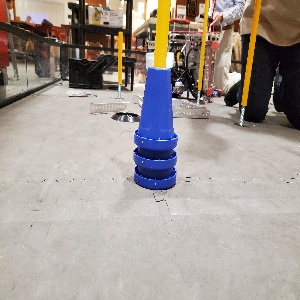Blue_3: (132, 66, 177, 188)
